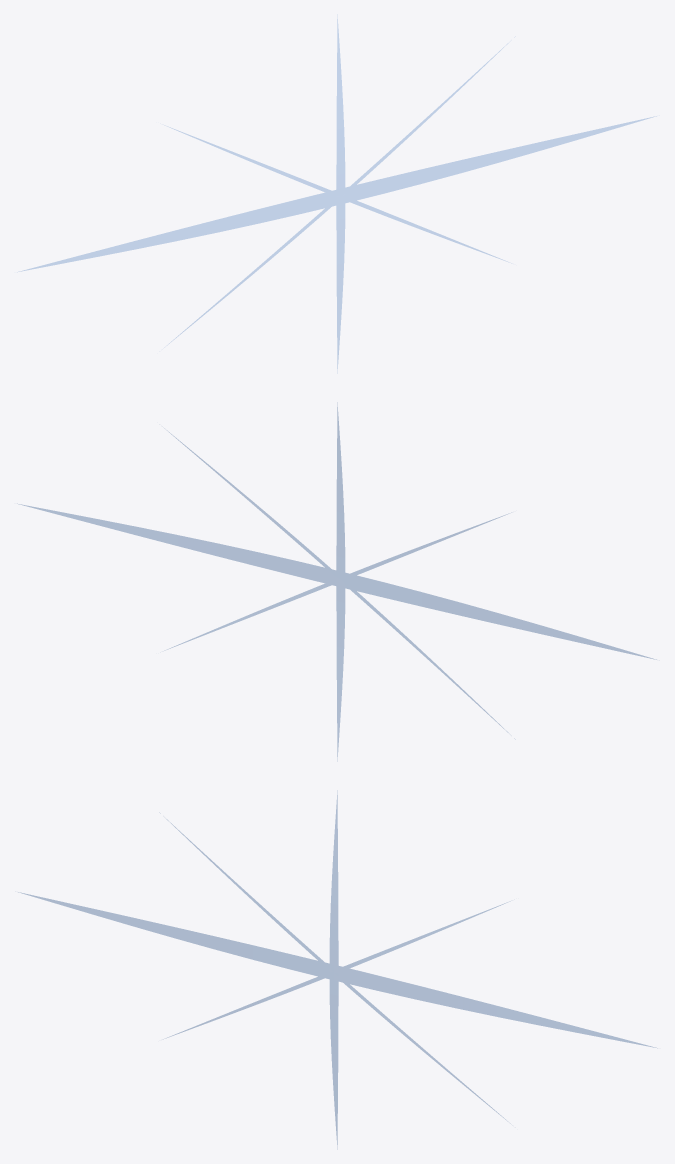
The model's file is black-rain-flash.glb.
3 renders of one model, top to bottom at view 1: azimuth 30°, elevation 25°; view 2: azimuth 150°, elevation 25°; view 3: azimuth 330°, elevation 25°, orthographic.
Visible parts, largest first — view 1: 黒雨・自作3D・flash; view 2: 黒雨・自作3D・flash; view 3: 黒雨・自作3D・flash.
Part boxes in pixels (<box>): 黒雨・自作3D・flash: <box>17,14,659,373</box>; 黒雨・自作3D・flash: <box>17,402,659,761</box>; 黒雨・自作3D・flash: <box>15,790,657,1149</box>.
Bounding box in the file's own units: 6.4 × 3.4 × 0.06.
